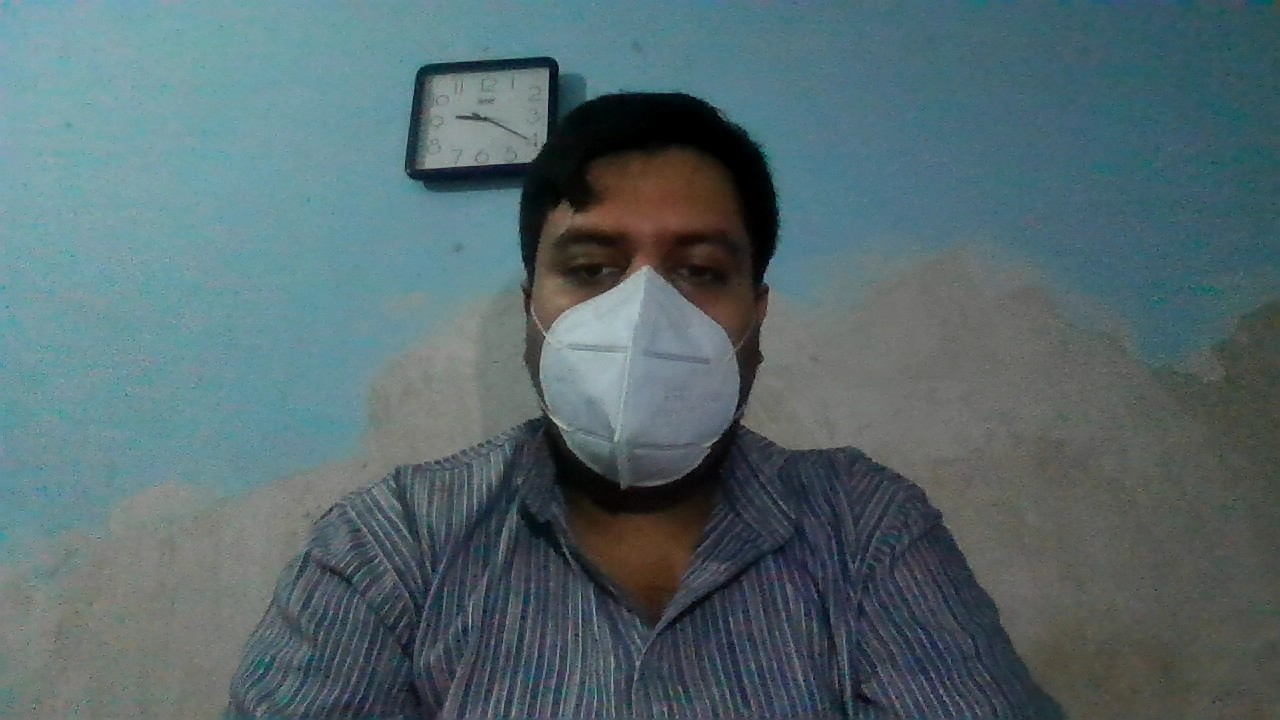Mask: (517, 267, 774, 486)
